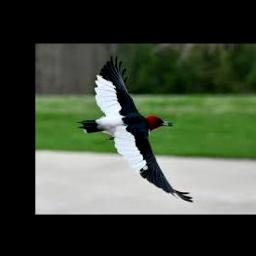Woodpecker: (78, 55, 193, 203)
